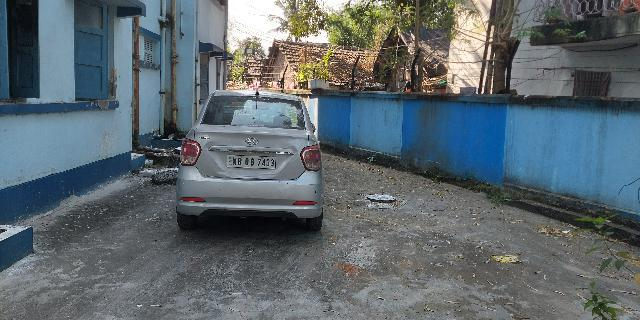Car: (169, 81, 329, 235)
